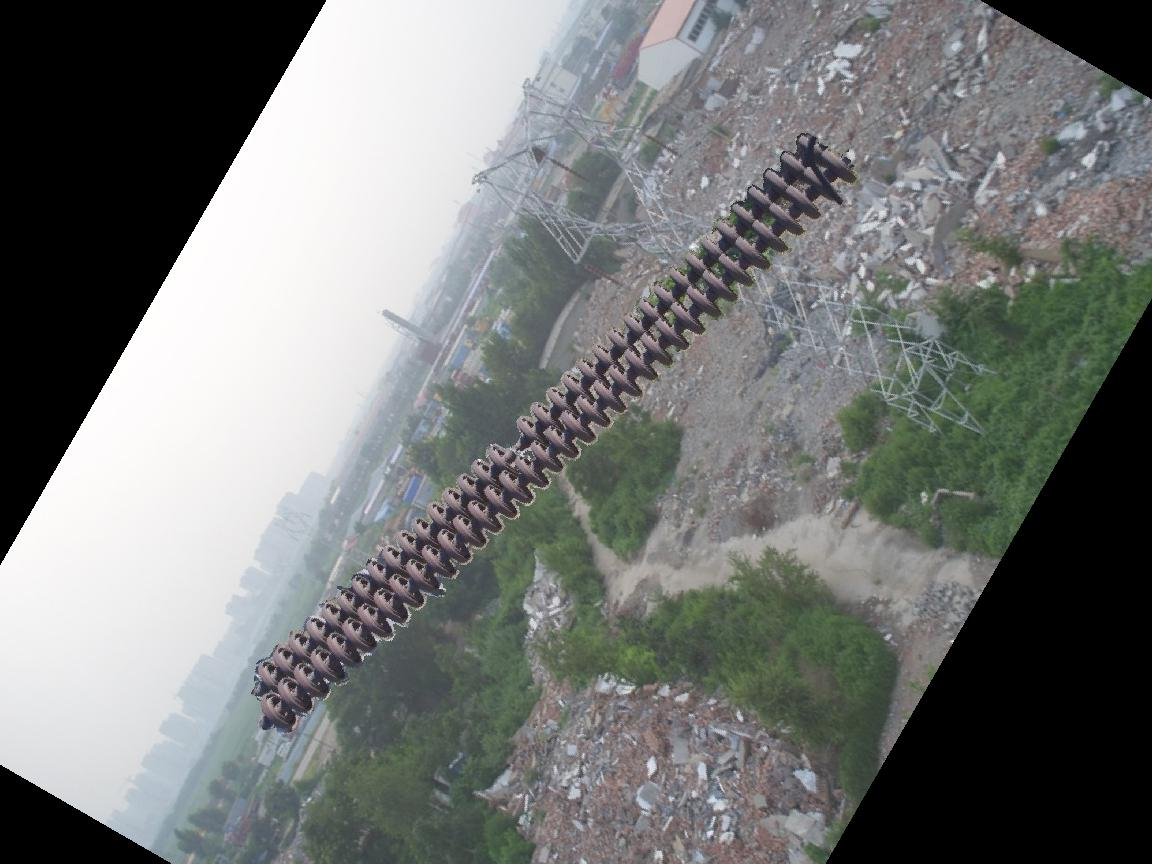insulator: (244, 127, 856, 733)
insulator_stringdrop: (485, 411, 541, 472)
